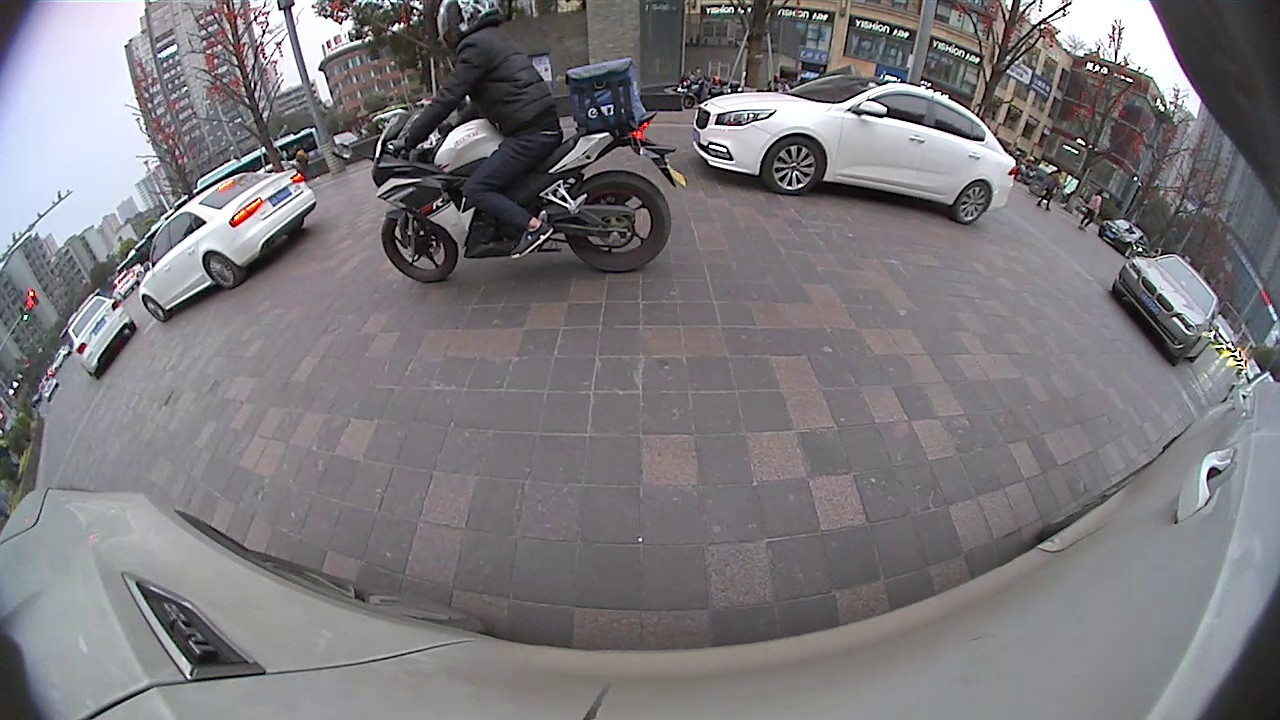car: (691, 71, 1017, 227), (138, 164, 320, 324), (1109, 252, 1224, 368), (68, 294, 140, 383), (1098, 216, 1154, 261)
front: (378, 207, 463, 286), (760, 130, 830, 198), (139, 293, 171, 323)
rear: (558, 167, 677, 275), (950, 176, 995, 228), (200, 248, 243, 291)
rider: (370, 3, 679, 286)
